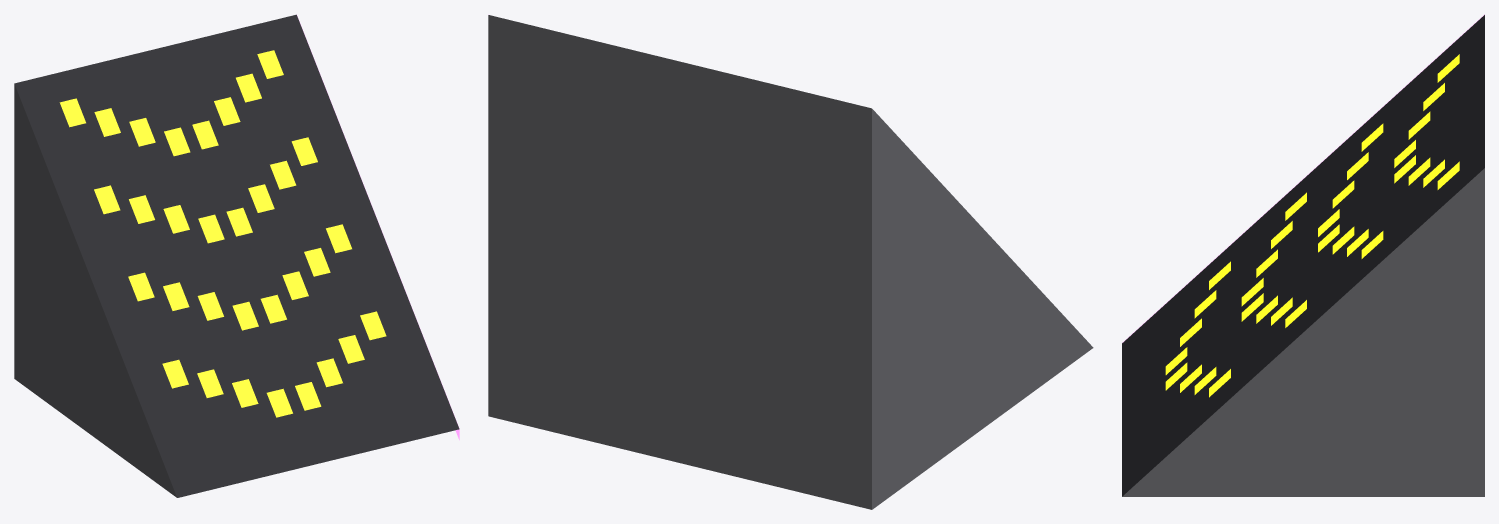
Rendered from ramp.glb.
3 renders of one model, left to right at view 1: azimuth 30°, elevation 25°; view 2: azimuth 150°, elevation 25°; view 3: azimuth 270°, elevation 25°, orthographic. The views are drawn at different scales.
Visible parts, largest first — view 1: Ramp; view 2: Ramp; view 3: Ramp.
Part boxes in pixels (box(x1,y1,x2,y2)): Ramp: box(14, 14, 459, 497); Ramp: box(488, 14, 1093, 509); Ramp: box(1122, 14, 1484, 496).
Size of the model in its own units: 1 by 1.04 by 1.
